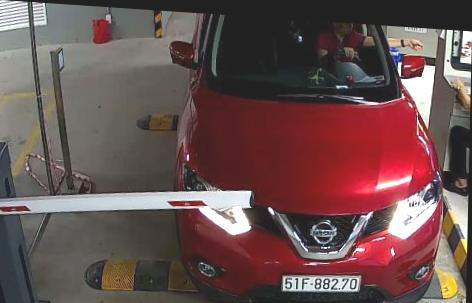License_Plate: (282, 267, 361, 294)
